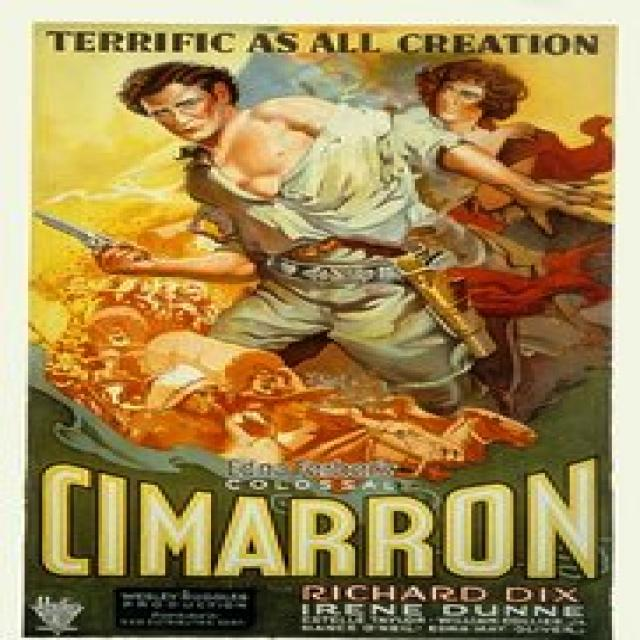movie-judul: (26, 440, 613, 640), (44, 23, 616, 58)
picture: (28, 25, 623, 492)
